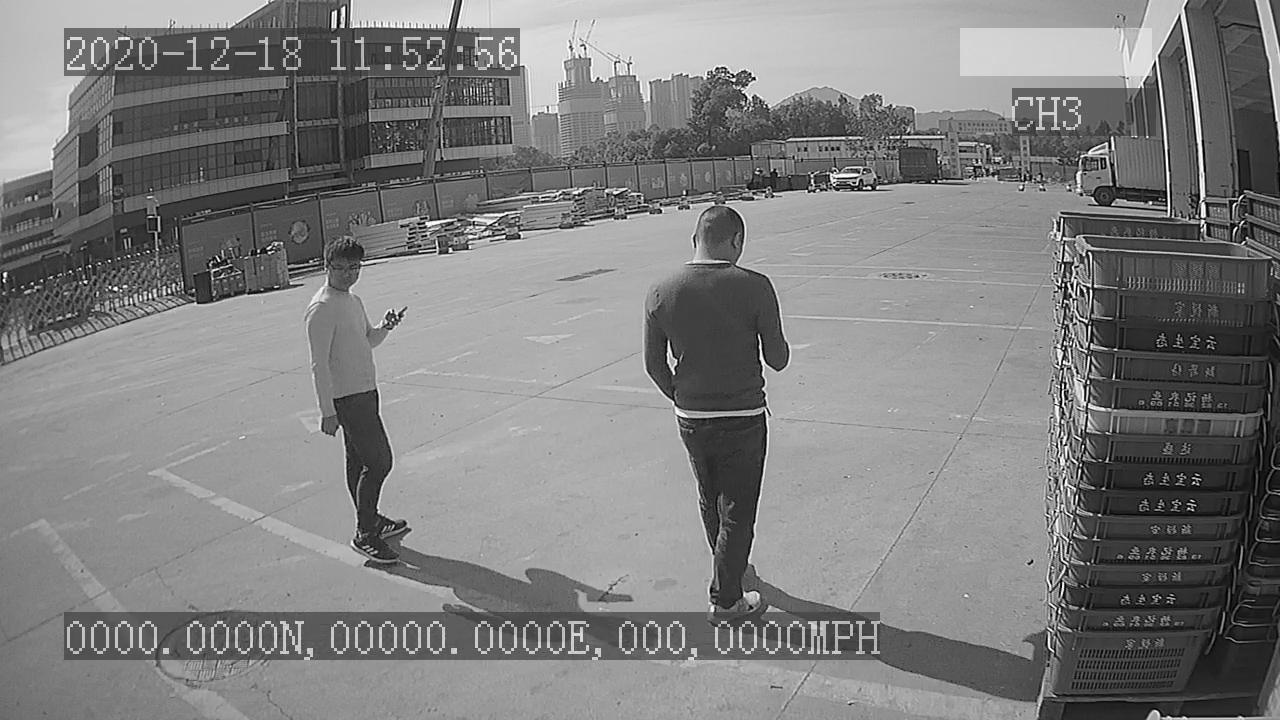person: (299, 233, 422, 576)
